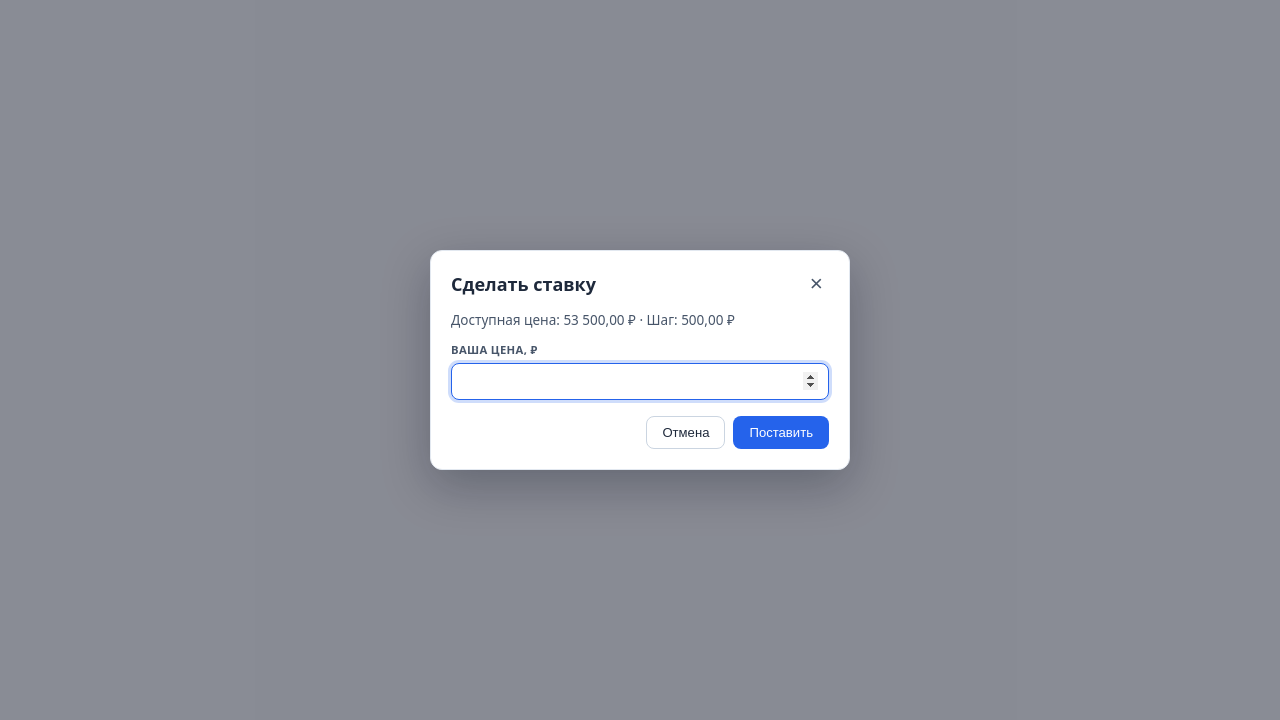
Scenario: PlaceBetModal — availability & validation › rejects an empty price on the client
Expected: the number field with test id "bet-price" is shown, [451, 363, 829, 400]
Step 1. Click the button with test id "bet-submit" → click(781, 433), box [734, 416, 829, 449]
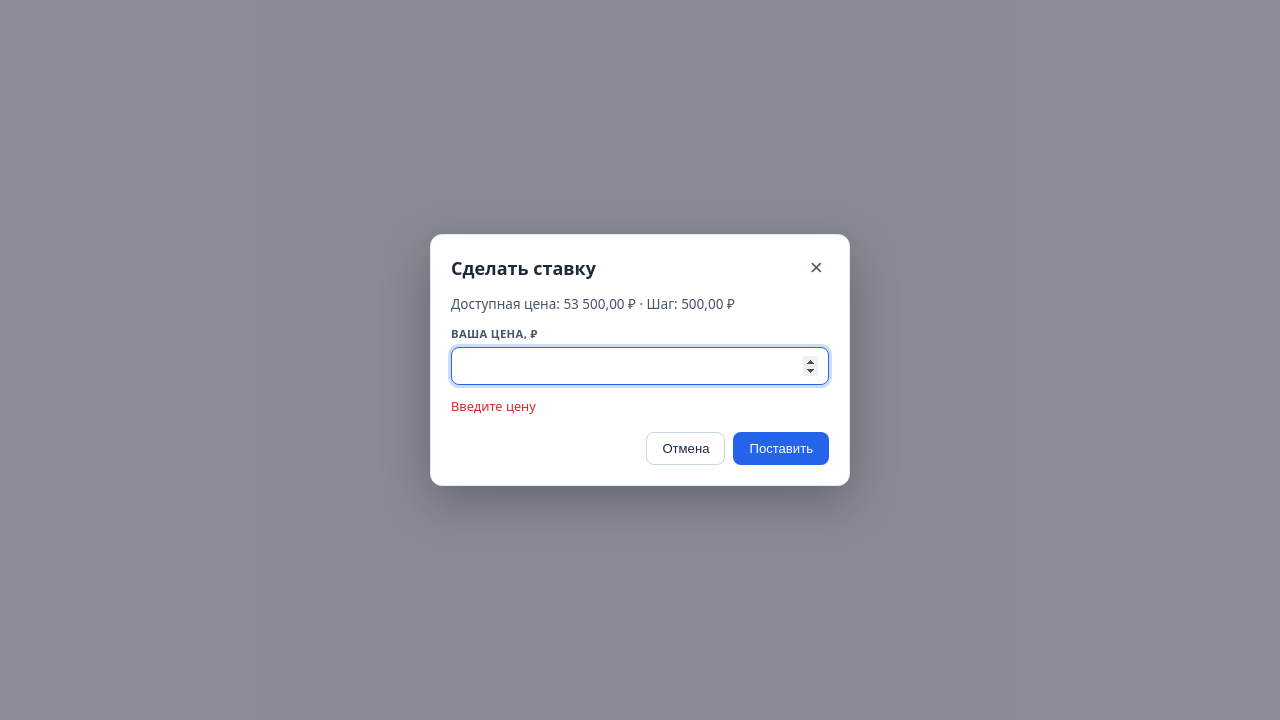
Now the message "Введите цену" is shown, box [451, 397, 536, 415]
